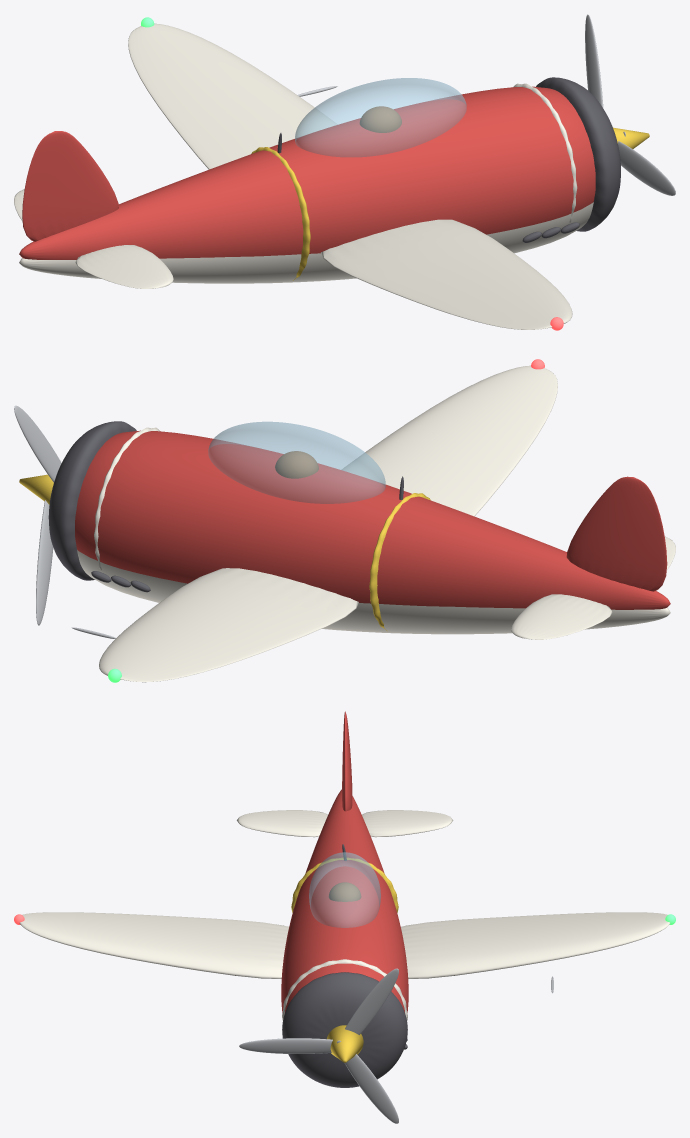
File: plane_aero.glb
3 views of the same model, one above another, from view 1: azimuth 30°, elevation 25°; view 2: azimuth 150°, elevation 25°; view 3: azimuth 270°, elevation 25° (orthographic). The views are drawn at different scales.
Visible parts, largest first — view 1: Plane, Prop; view 2: Plane, Prop; view 3: Plane, Prop.
Part boxes in pixels (box(x1,y1,x2,y2)): Plane: box(14, 17, 620, 330); Prop: box(585, 14, 675, 195); Plane: box(48, 359, 675, 682); Prop: box(14, 405, 61, 625); Plane: box(14, 711, 675, 1087); Prop: box(239, 968, 398, 1123).
Size of the model in its own units: 5.29 by 2.03 by 6.06.
